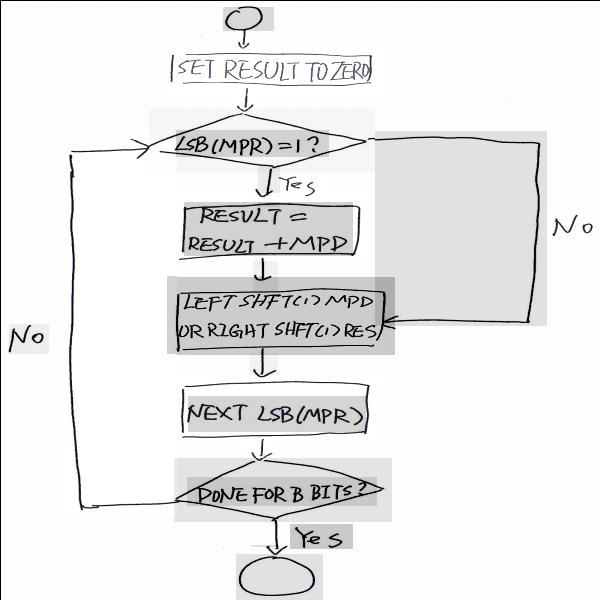arrow: (62, 139, 176, 516), (374, 130, 546, 325), (226, 83, 259, 116), (257, 165, 279, 206), (252, 256, 277, 290), (240, 438, 276, 460), (248, 353, 277, 374), (235, 29, 252, 47)
decision: (148, 109, 374, 171), (174, 458, 391, 521)
process: (166, 276, 394, 354), (177, 376, 382, 441), (172, 192, 366, 260), (162, 46, 383, 95)
terminator: (235, 553, 322, 600), (222, 6, 273, 30), (250, 544, 276, 546)
text: (179, 285, 382, 351), (183, 201, 352, 255), (187, 395, 365, 431), (174, 53, 368, 84), (186, 477, 376, 506), (175, 130, 328, 157), (544, 209, 598, 241), (289, 523, 352, 548), (276, 172, 332, 194), (8, 323, 48, 353)
